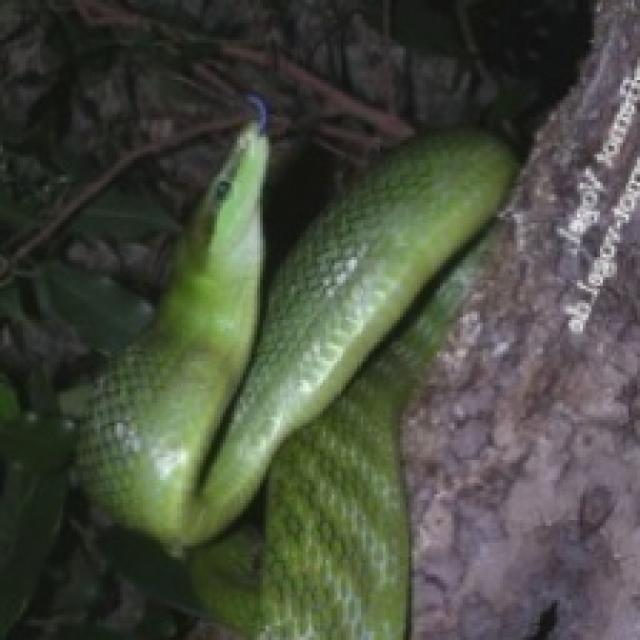red-tailed green ratsnake: (77, 111, 514, 637), (189, 129, 514, 540), (77, 103, 266, 543)
